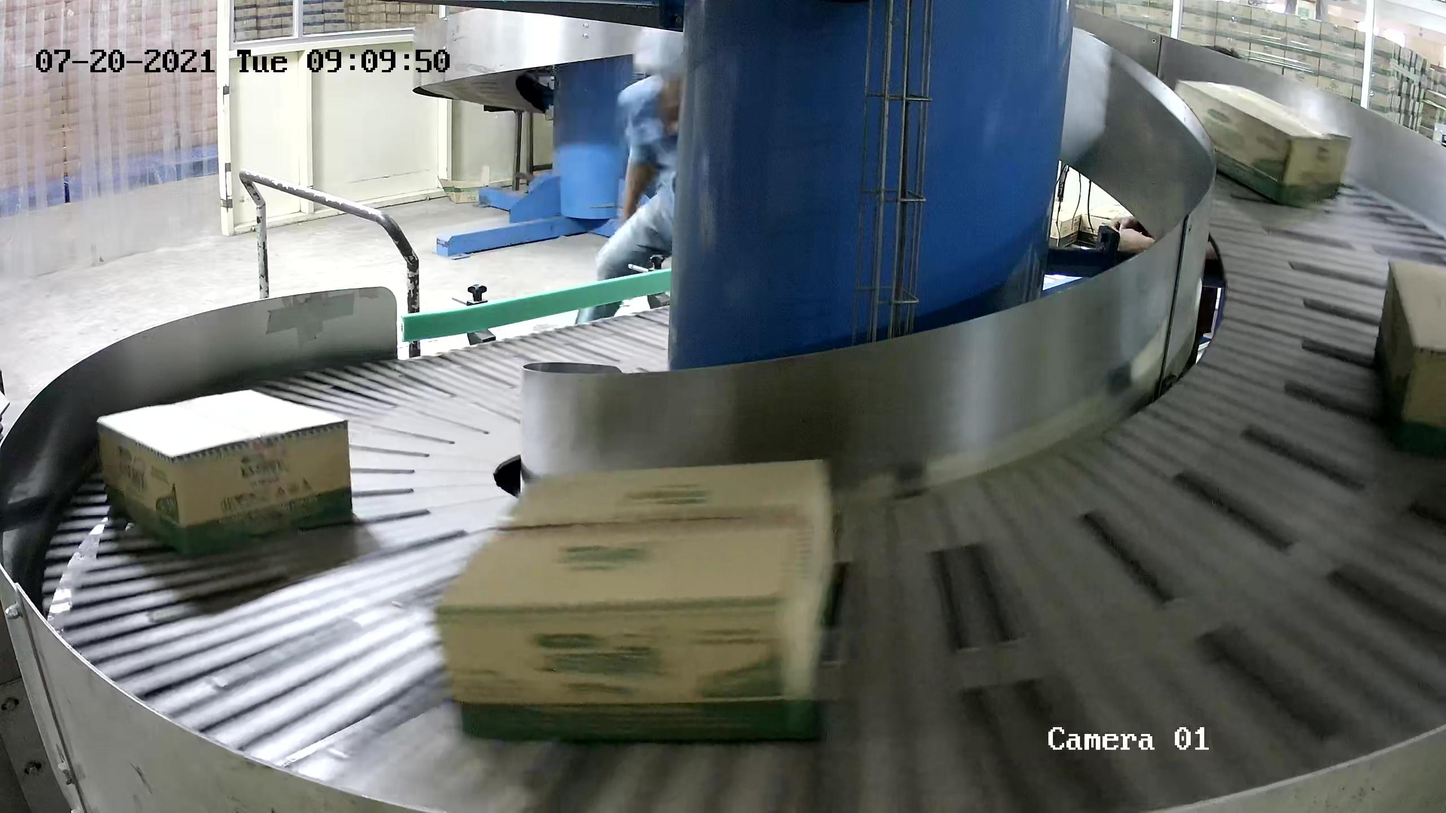Box: (427, 458, 837, 744), (95, 387, 354, 560), (1161, 78, 1353, 207), (1371, 255, 1446, 462)
